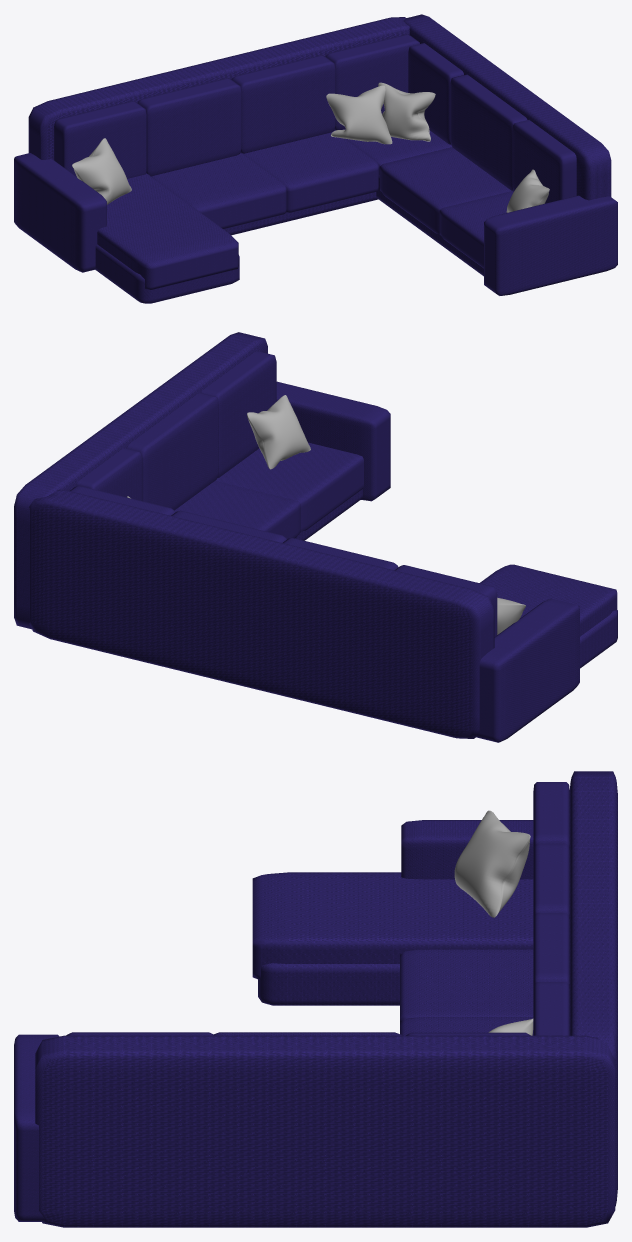
The model's file is Long Couch Model02.fbx.
The picture shows the model from 3 angles, top to bottom: view 1: azimuth 30°, elevation 25°; view 2: azimuth 150°, elevation 25°; view 3: azimuth 270°, elevation 25°; orthographic projection. The views are drawn at different scales.
Parts seen in each view (by area): view 1: pCube13, pCube2, pCube6, pCube15, pCube5, pCube16, pCube9, pCube4, pCube3, pCube11, pCube19, pCube14 (+12 smaller); view 2: pCube6, pCube5, pCube9, pCube19, pCube12, pCube13, pCube20, pCube2, pCube11, pCube24, pCube18, pCube8 (+6 smaller); view 3: pCube9, pCube2, pCube6, pCube3, pCube8, pCube21, pCube13, pCube5, pCube15, pCube16, pCube14, pCube17 (+2 smaller).
Part boxes in pixels (box(x1,y1,x2,y2)): pCube13: box(484, 195, 617, 295); pCube2: box(97, 173, 238, 289); pCube6: box(28, 17, 409, 159); pCube15: box(137, 78, 241, 176); pCube5: box(14, 153, 106, 272); pCube16: box(231, 55, 335, 153); pCube9: box(403, 14, 611, 200); pCube4: box(242, 131, 378, 213); pCube3: box(151, 153, 286, 229); pCube11: box(379, 147, 511, 234); pCube19: box(450, 74, 527, 191); pCube14: box(54, 101, 146, 178); pCube6: box(29, 489, 494, 738); pCube5: box(475, 598, 579, 742); pCube9: box(14, 332, 267, 629); pCube19: box(127, 393, 218, 510); pCube12: box(216, 442, 363, 531); pCube13: box(276, 381, 390, 501); pCube20: box(201, 351, 276, 477); pCube2: box(479, 564, 617, 636); pCube11: box(174, 480, 300, 539); pCube24: box(247, 395, 310, 469); pCube18: box(76, 448, 142, 501); pCube8: box(580, 610, 617, 668); pCube9: box(35, 1035, 615, 1227); pCube2: box(252, 872, 533, 979); pCube6: box(569, 771, 617, 1206); pCube3: box(400, 949, 533, 1022); pCube8: box(258, 963, 399, 1005); pCube21: box(454, 810, 530, 917); pCube13: box(14, 1034, 59, 1221); pCube5: box(401, 820, 533, 879); pCube15: box(533, 843, 569, 921); pCube16: box(533, 913, 569, 990); pCube14: box(533, 782, 569, 851); pCube17: box(533, 982, 569, 1035).
Bounding box in the file's own units: 12.5 × 3.38 × 10.52.
